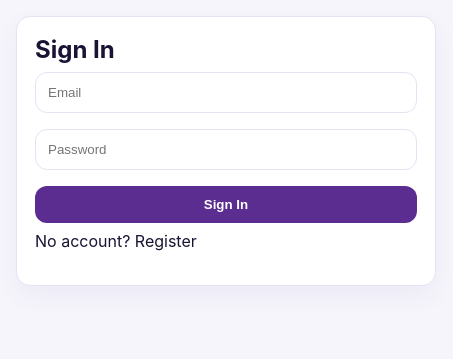
it: Login Component › shows validation error for short password
The image size is (453, 359).
Type "123" into the password field with placeholder "Password". click: (226, 150)
box: left=35, top=129, right=417, bottom=170
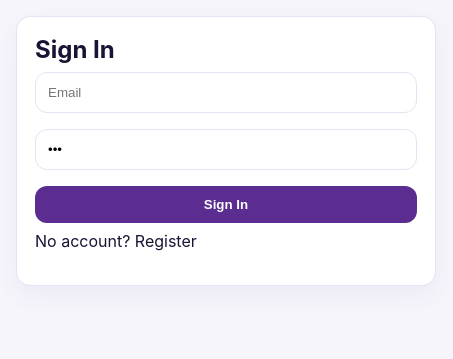
Submit the form, box left=35, top=72, right=417, bottom=223
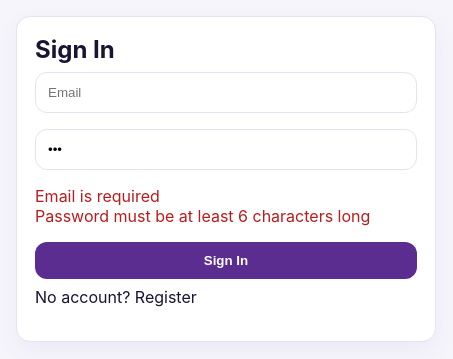
Check: the text "Password must be at least 6 characters long" is shown, box left=35, top=206, right=417, bottom=226
